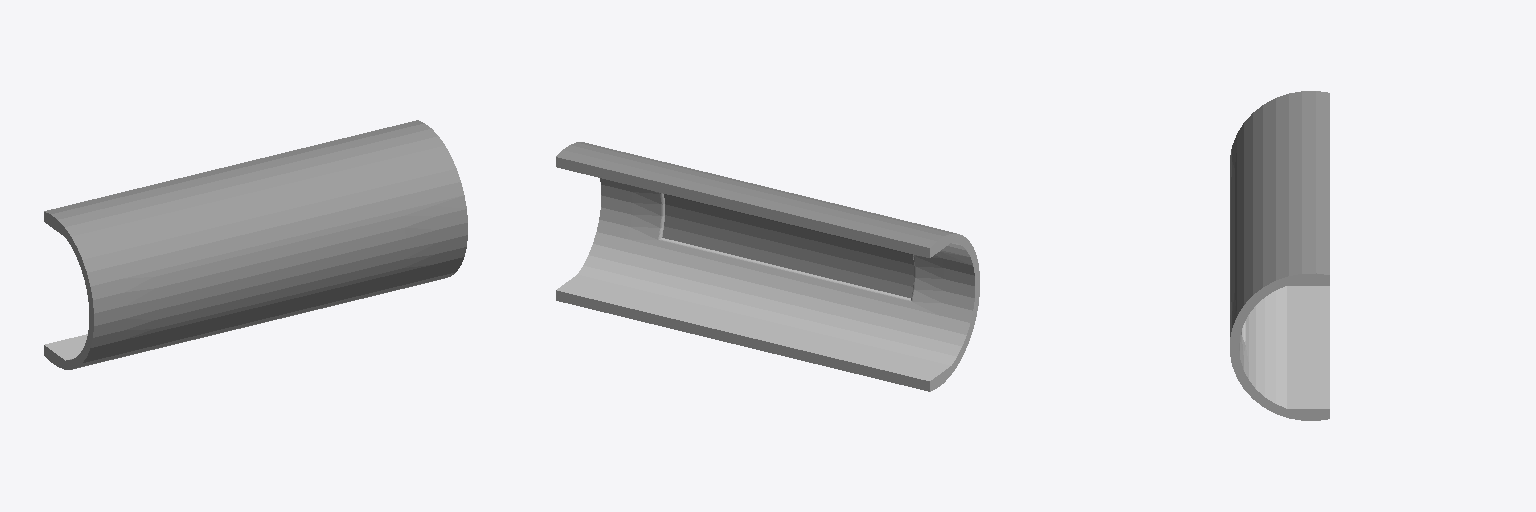
The model's file is LinearTubeWindowBig.obj.
3 views of the same model, side by side, from view 1: azimuth 30°, elevation 25°; view 2: azimuth 150°, elevation 25°; view 3: azimuth 270°, elevation 25° (orthographic).
Parts seen in each view (by area): view 1: LinearTubeWindowBig, LinearTubeWindowBig-Glass; view 2: LinearTubeWindowBig, LinearTubeWindowBig-Glass; view 3: LinearTubeWindowBig, LinearTubeWindowBig-Glass.
Boxes of the visible parts, x1=… form: LinearTubeWindowBig: x1=44, y1=120, x2=467, y2=369; LinearTubeWindowBig-Glass: x1=154, y1=216, x2=405, y2=328; LinearTubeWindowBig: x1=556, y1=142, x2=979, y2=391; LinearTubeWindowBig-Glass: x1=662, y1=194, x2=913, y2=297; LinearTubeWindowBig: x1=1230, y1=91, x2=1329, y2=420; LinearTubeWindowBig-Glass: x1=1230, y1=170, x2=1241, y2=334.
Size of the model in its own units: 45 by 16.96 by 10.48.